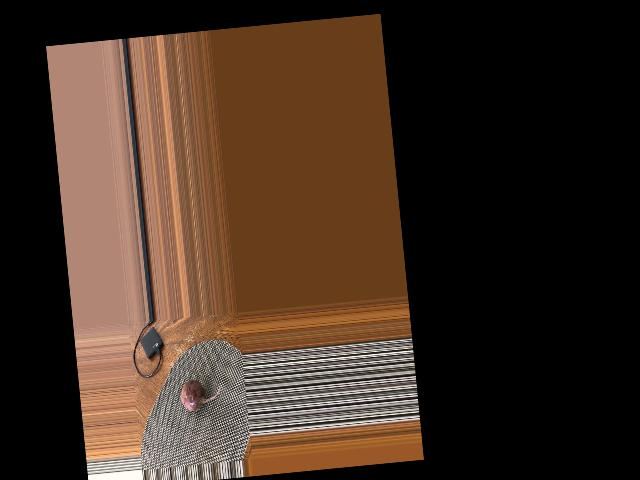beet: (180, 377, 223, 412)
